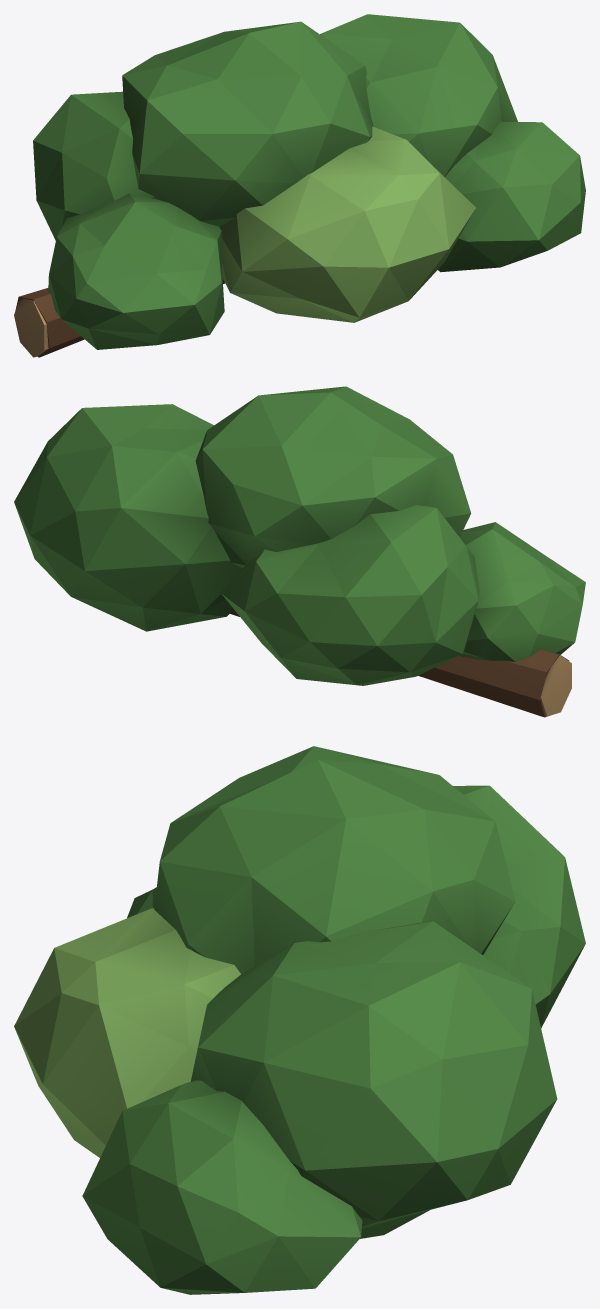
Rendered from canopy_cluster.glb.
3 views of the same model, one above another, from view 1: azimuth 30°, elevation 25°; view 2: azimuth 150°, elevation 25°; view 3: azimuth 270°, elevation 25° (orthographic). The views are drawn at different scales.
Visible parts, largest first — view 1: Canopy; view 2: Canopy; view 3: Canopy.
Part boxes in pixels (<box>): Canopy: <box>14,14,585,357</box>; Canopy: <box>14,386,585,717</box>; Canopy: <box>14,746,585,1294</box>.
Size of the model in its own units: 4.73 by 2.32 by 3.1.
1 material, 1 textured.
